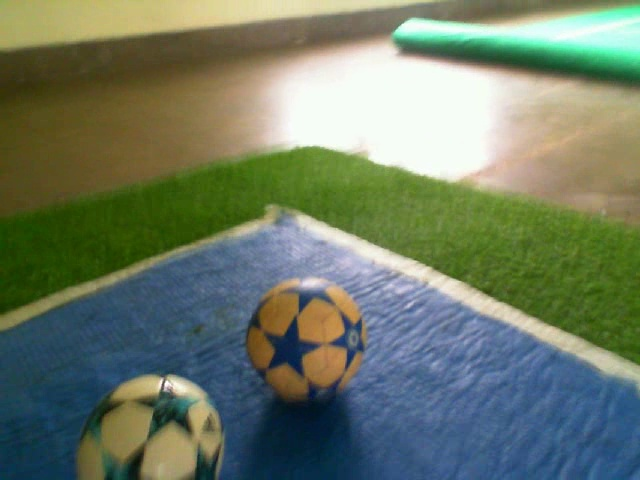ball: (71, 368, 230, 480), (242, 273, 371, 410)
